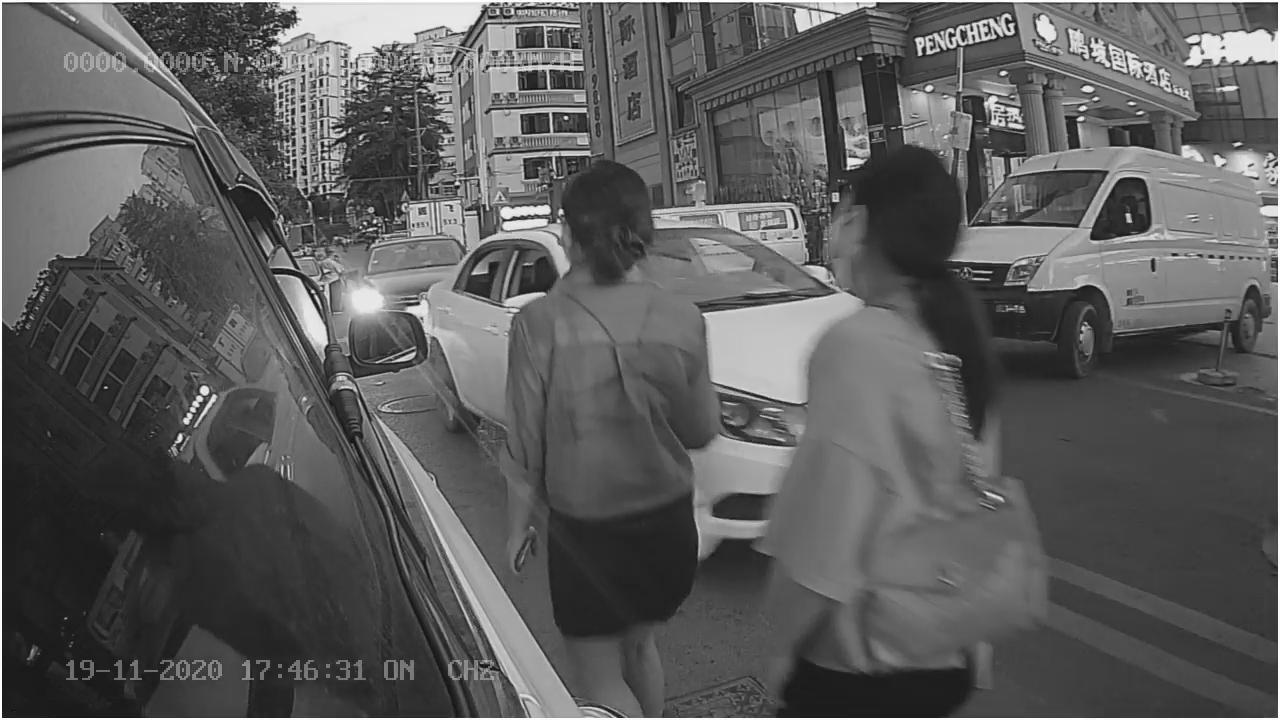person: (502, 161, 712, 660)
